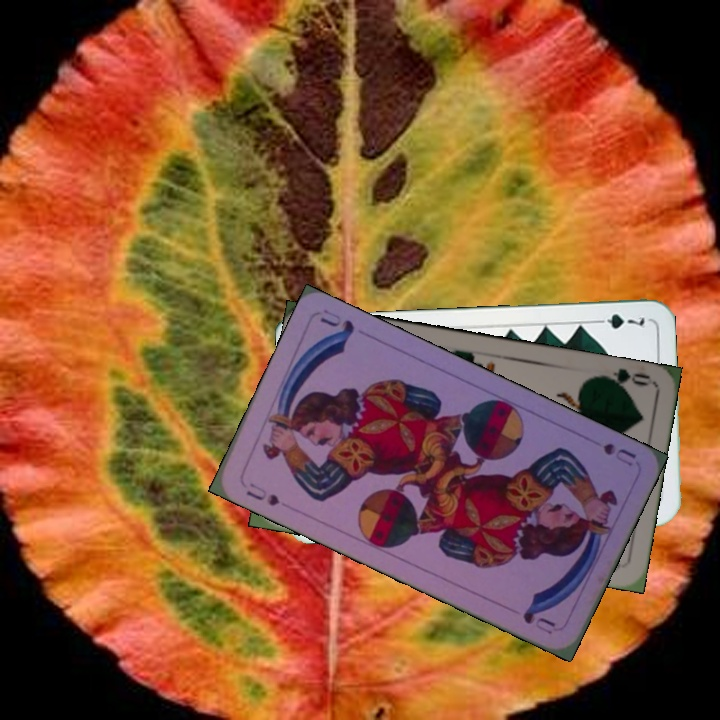G7: (590, 310, 648, 332)
GO: (593, 364, 653, 393)
SU: (598, 438, 639, 470), (242, 478, 282, 509)
